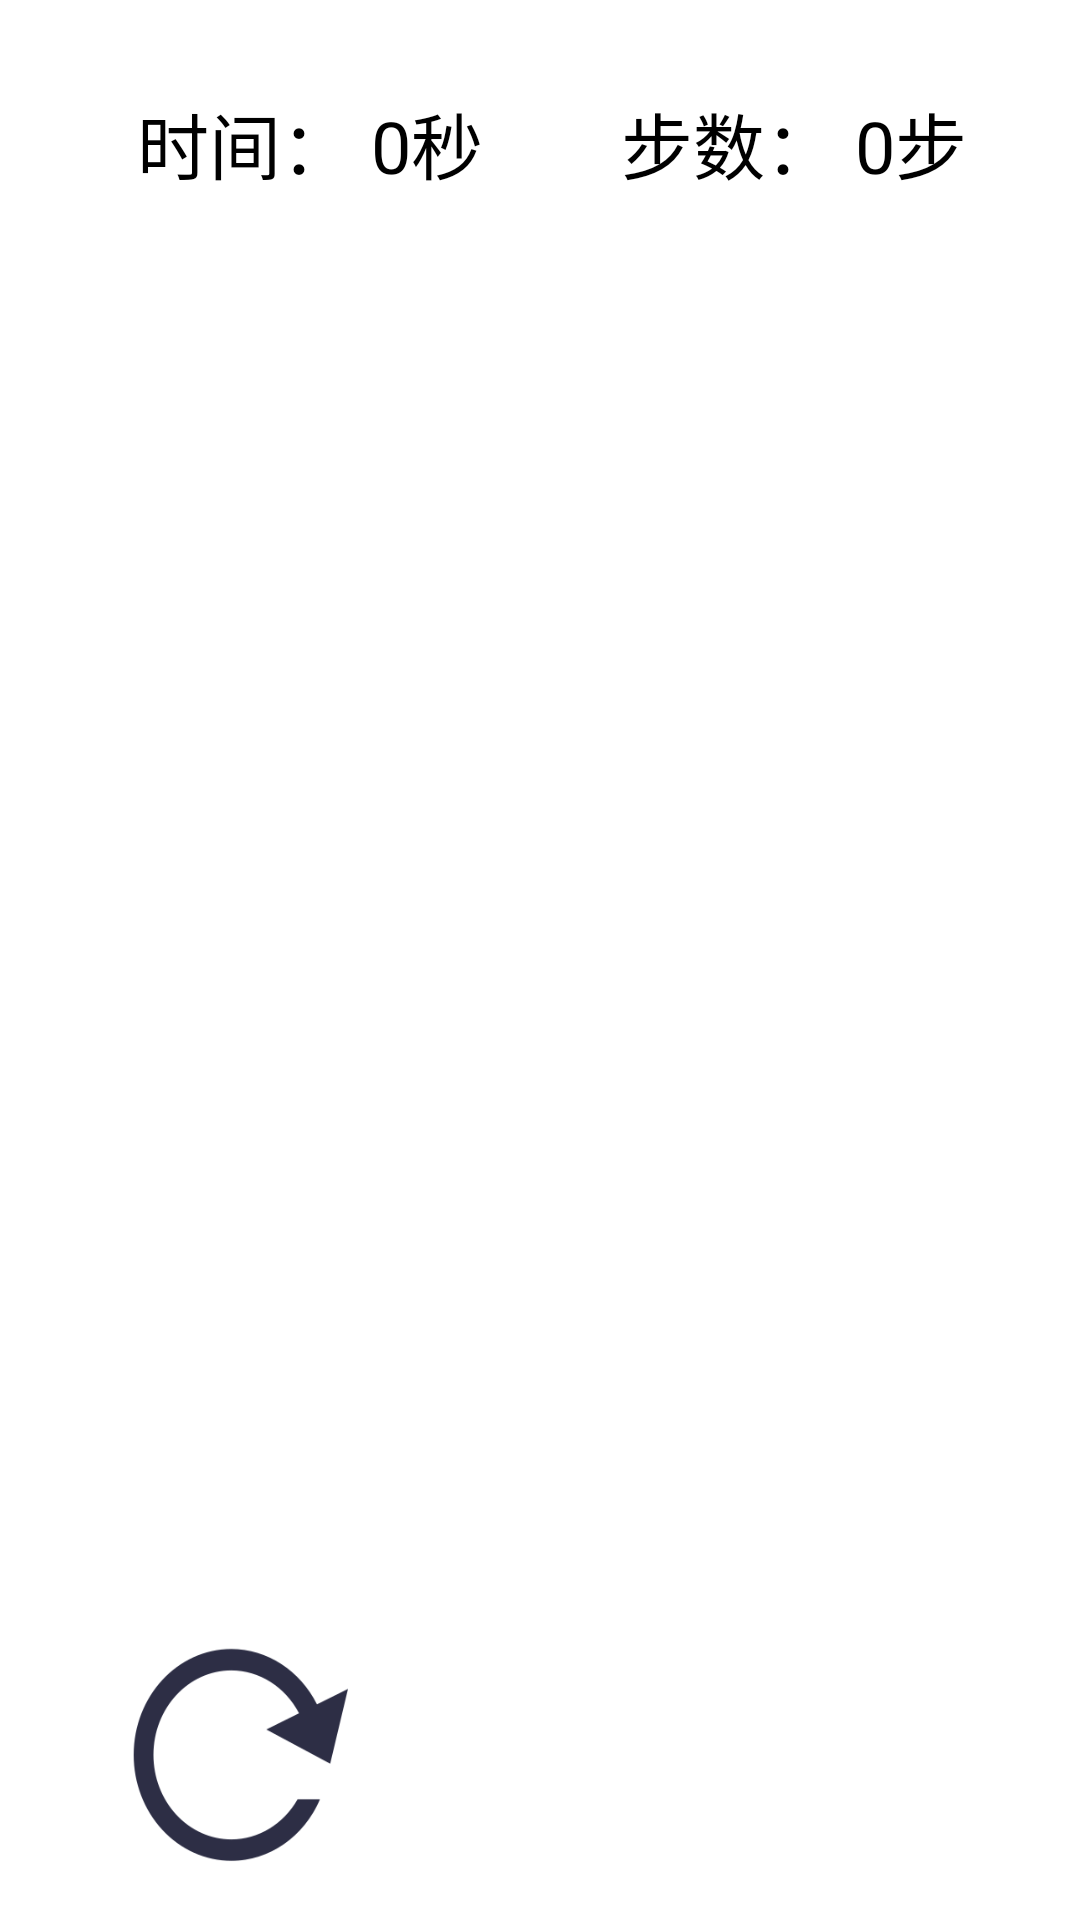

Where to tap for icons on this 1080px×1920px app screen, as (x=x, y=y):
reback: (x=240, y=1754)
